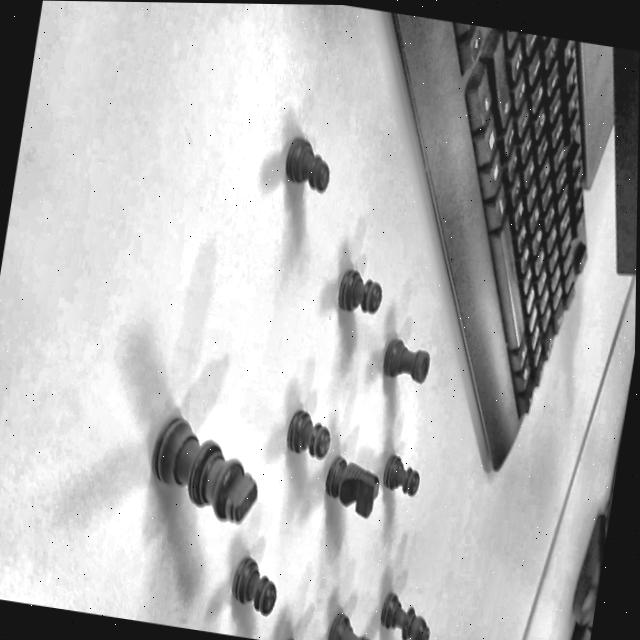black-bishop: (371, 573, 440, 640)
black-king: (129, 378, 275, 535)
black-knight: (317, 433, 386, 537)
black-pawn: (267, 117, 344, 203), (224, 544, 285, 625), (278, 391, 335, 472), (326, 256, 389, 326), (374, 438, 428, 509)
black-rook: (369, 325, 438, 397), (324, 603, 381, 640)
